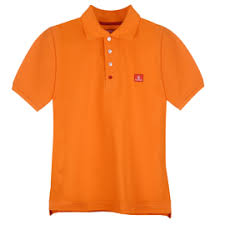S_polo shirt: (14, 11, 206, 223)
